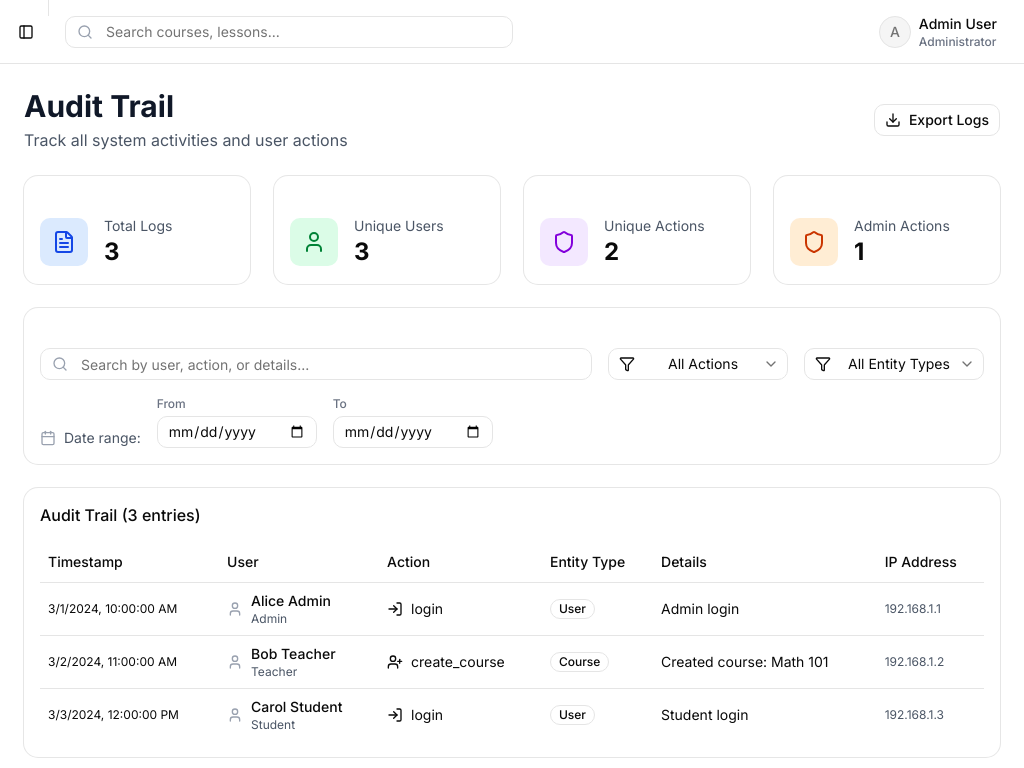
Admin System Page - Date Range Filter (6.5) › shows "Clear dates" button when a date is set
Check: the text "Alice Admin" is shown, box [251,590,331,610]
In the date field named "start date": (237, 432) [157,416,317,448], type "2024-03-01"
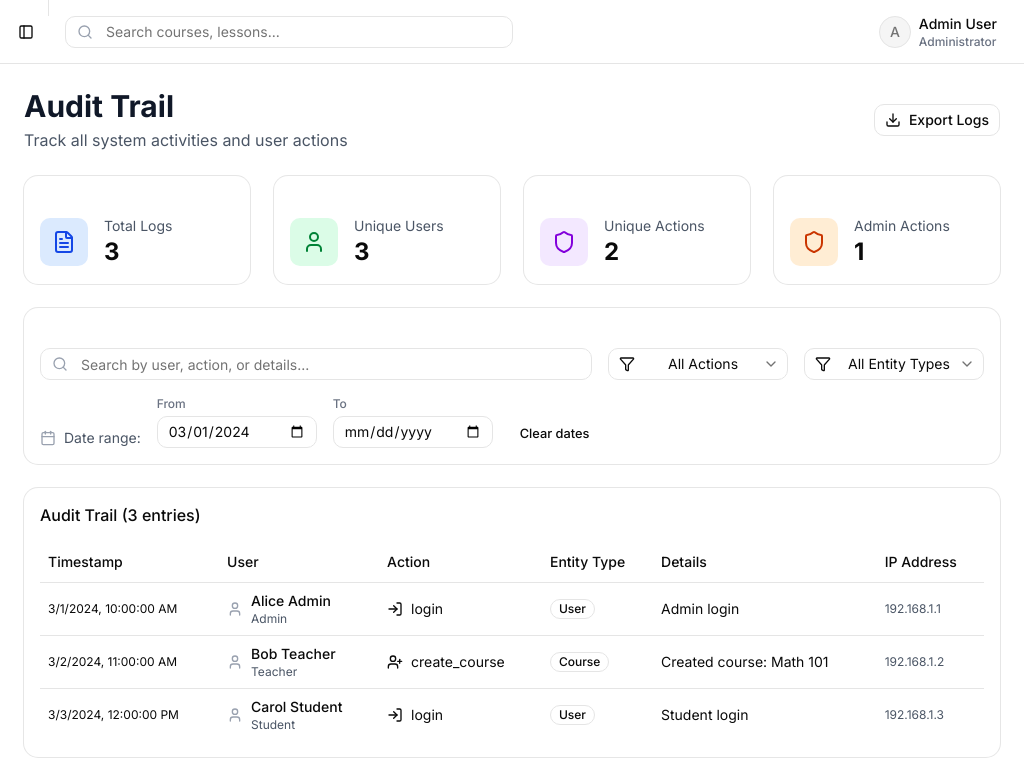
Check: the button "Clear dates" is shown, box [509,420,600,448]
